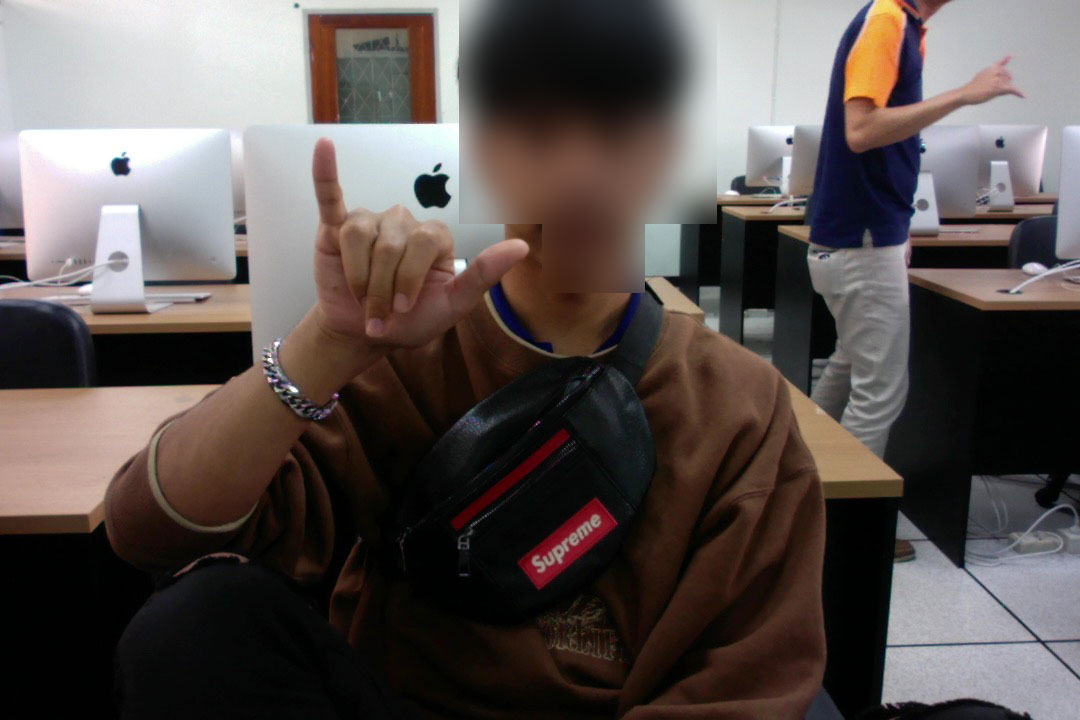yor: (301, 127, 534, 383)
